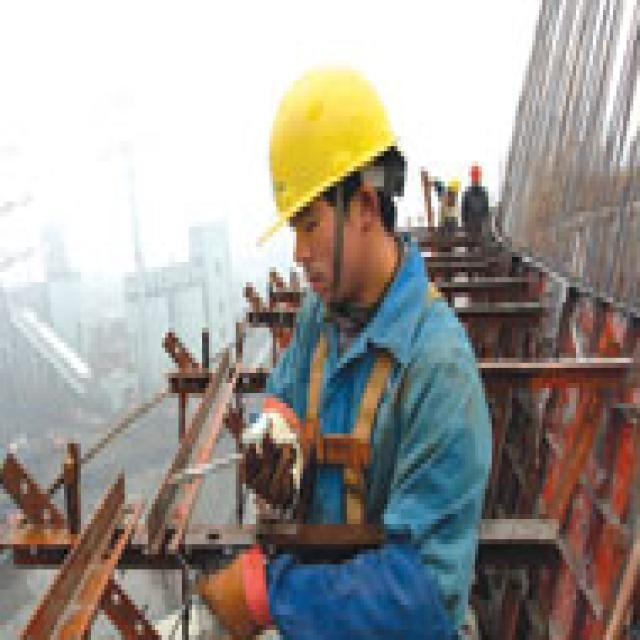Arnes_seguridad: (270, 252, 452, 539)
